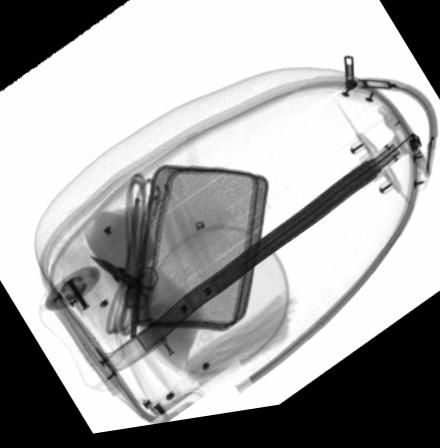Scissors: (88, 255, 160, 315)
